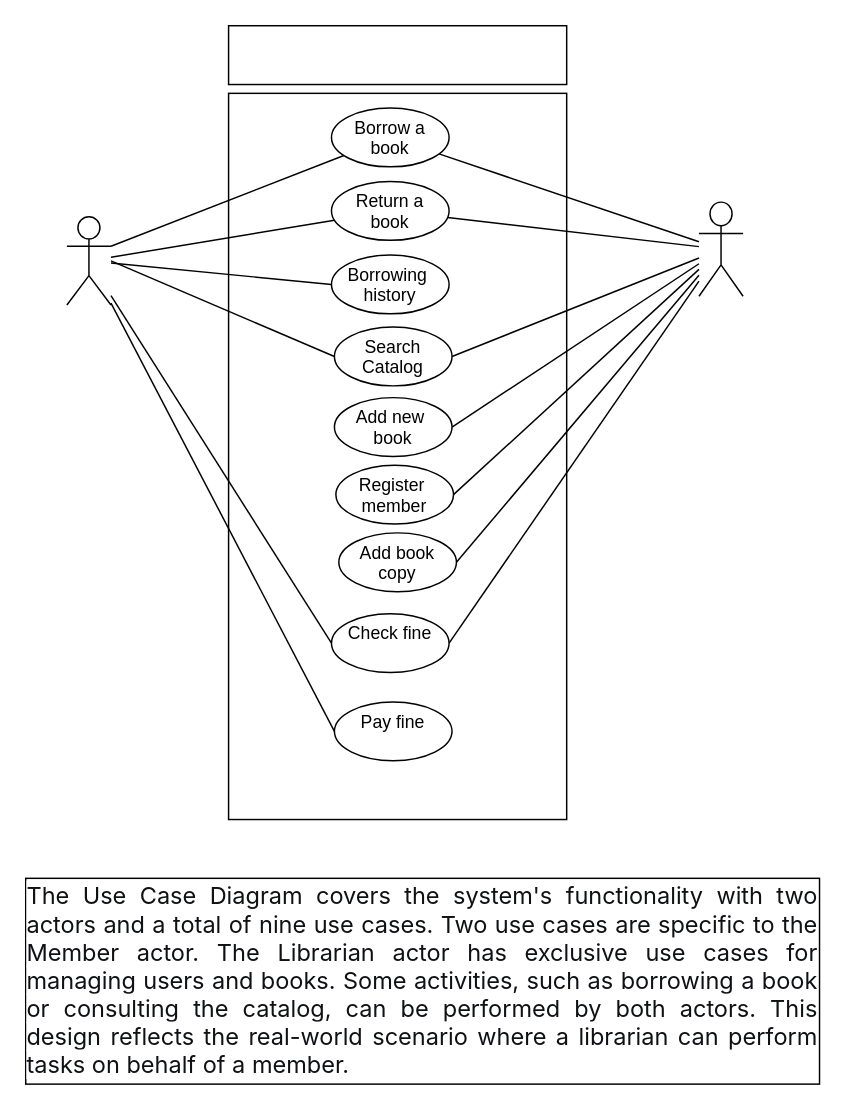
This 845x1110 diagram has some shape labels left out. Here are the shapes that lost their labels. From the top down, the centre of each, then its label:
point 397,54: Library Management System
point 88,260: Member
point 720,248: Librarian
